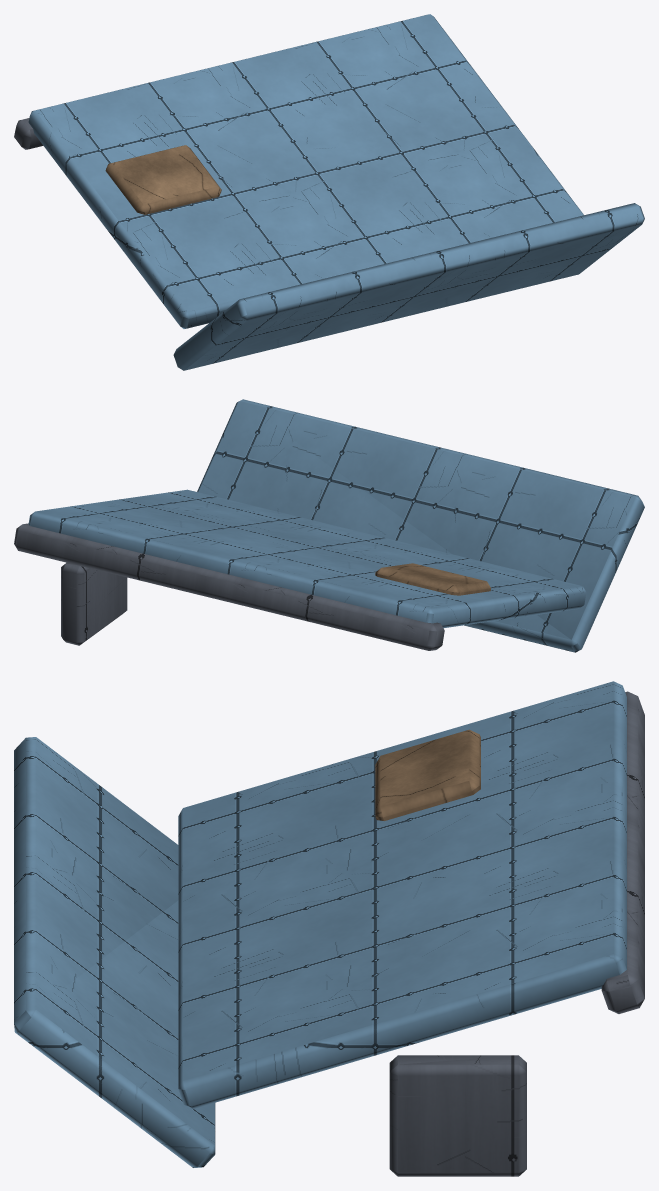
The model's file is bent_panel.glb.
3 views of the same model, one above another, from view 1: azimuth 30°, elevation 25°; view 2: azimuth 150°, elevation 25°; view 3: azimuth 270°, elevation 25° (orthographic). The views are drawn at different scales.
Parts seen in each view (by area): view 1: DL010_BentPanel_faded_blue, DL010_BentPanel_corrosion, DL010_BentPanel_metal_dark; view 2: DL010_BentPanel_faded_blue, DL010_BentPanel_metal_dark, DL010_BentPanel_corrosion; view 3: DL010_BentPanel_faded_blue, DL010_BentPanel_metal_dark, DL010_BentPanel_corrosion.
Part boxes in pixels (bbox=[...]): DL010_BentPanel_faded_blue: bbox=[28, 14, 644, 370]; DL010_BentPanel_corrosion: bbox=[105, 145, 221, 214]; DL010_BentPanel_metal_dark: bbox=[14, 118, 43, 149]; DL010_BentPanel_faded_blue: bbox=[28, 399, 644, 652]; DL010_BentPanel_metal_dark: bbox=[14, 523, 444, 650]; DL010_BentPanel_corrosion: bbox=[375, 563, 490, 595]; DL010_BentPanel_faded_blue: bbox=[14, 681, 626, 1167]; DL010_BentPanel_metal_dark: bbox=[389, 691, 644, 1176]; DL010_BentPanel_corrosion: bbox=[375, 729, 480, 820].
Bounding box in the file's own units: 2.5 × 0.8866 × 2.3.
Materials: 4 (4 with a texture image).
